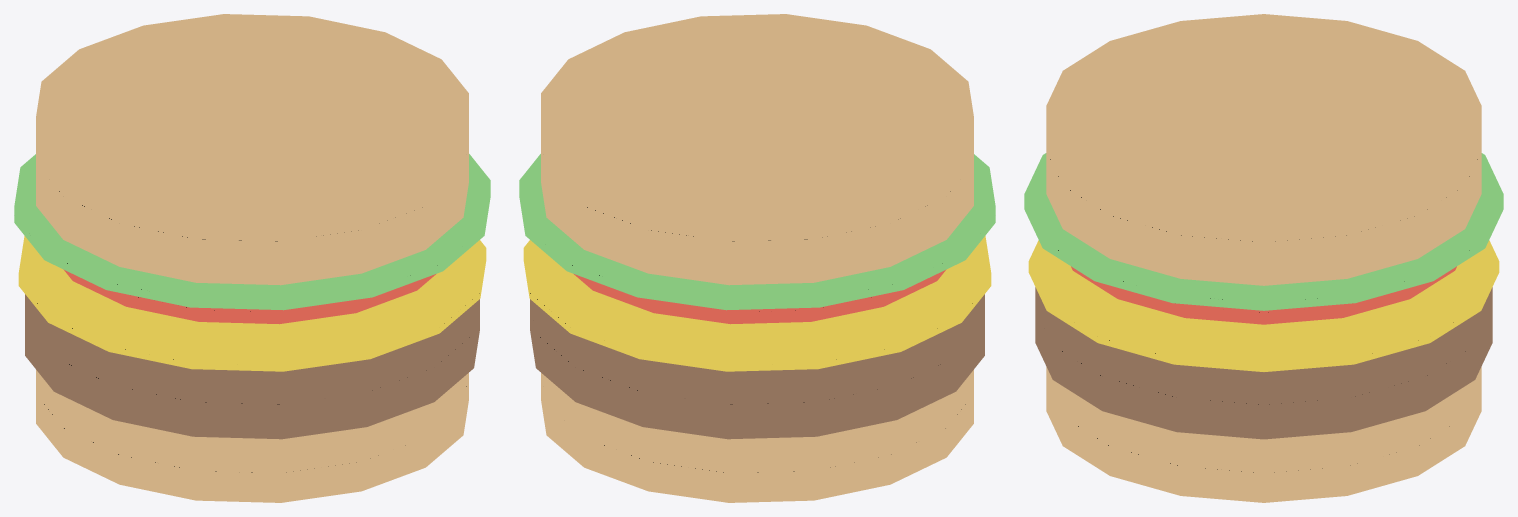
Rendered from burger-exploded.glb.
3 renders of one model, left to right at view 1: azimuth 30°, elevation 25°; view 2: azimuth 150°, elevation 25°; view 3: azimuth 270°, elevation 25°, orthographic.
Visible parts, largest first — view 1: bun_top, patty, bun_bottom, cheese, lettuce, tomato; view 2: bun_top, patty, bun_bottom, cheese, lettuce, tomato; view 3: bun_top, patty, bun_bottom, cheese, lettuce, tomato.
Part boxes in pixels (x1=…): bun_top: x1=36, y1=14, x2=468, y2=285; patty: x1=25, y1=294, x2=479, y2=439; bun_bottom: x1=36, y1=370, x2=468, y2=502; cheese: x1=18, y1=236, x2=486, y2=371; lettuce: x1=14, y1=154, x2=490, y2=310; tomato: x1=63, y1=269, x2=435, y2=324; bun_top: x1=541, y1=14, x2=973, y2=285; patty: x1=530, y1=294, x2=984, y2=439; bun_bottom: x1=541, y1=370, x2=973, y2=502; cheese: x1=523, y1=236, x2=991, y2=371; lettuce: x1=519, y1=154, x2=995, y2=310; tomato: x1=574, y1=269, x2=946, y2=324; bun_top: x1=1046, y1=14, x2=1481, y2=285; patty: x1=1035, y1=287, x2=1492, y2=439; bun_bottom: x1=1046, y1=367, x2=1481, y2=502; cheese: x1=1028, y1=240, x2=1499, y2=371; lettuce: x1=1024, y1=153, x2=1503, y2=310; tomato: x1=1071, y1=266, x2=1456, y2=324.
Size of the model in its own units: 2.2 by 1.55 by 2.2.
